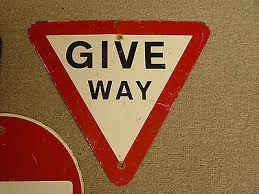giveway: (26, 20, 213, 188), (88, 16, 159, 193), (26, 17, 112, 158), (135, 16, 206, 142)
